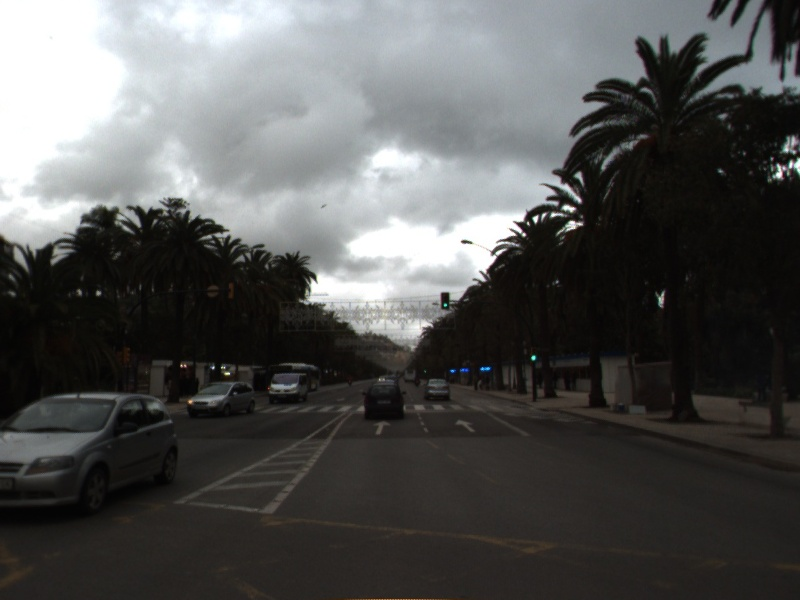STRAIGHT: (452, 417, 478, 434), (371, 418, 394, 436)
